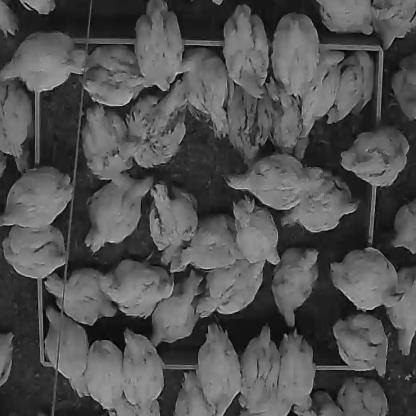chicken: (121, 83, 189, 171), (85, 170, 155, 253), (0, 27, 89, 91), (227, 152, 318, 209), (180, 40, 230, 141), (80, 43, 157, 106), (280, 170, 357, 232), (330, 248, 404, 312), (147, 270, 205, 350), (298, 48, 345, 146), (84, 109, 141, 189), (135, 1, 185, 92), (0, 166, 74, 226), (338, 129, 412, 189), (150, 185, 198, 275), (99, 260, 176, 316), (237, 322, 283, 415), (44, 305, 89, 400), (270, 245, 320, 329), (223, 6, 268, 99), (45, 271, 117, 329), (178, 212, 250, 270), (198, 259, 267, 318), (0, 222, 71, 279), (230, 75, 274, 166), (198, 321, 240, 416), (275, 9, 320, 97), (330, 315, 390, 379), (328, 49, 378, 125), (277, 327, 319, 415), (123, 325, 164, 414), (233, 197, 282, 264), (86, 335, 125, 415), (268, 81, 304, 159), (0, 82, 33, 162), (390, 261, 416, 354), (175, 369, 223, 416), (372, 1, 416, 52), (316, 1, 376, 36), (339, 376, 390, 415), (393, 55, 415, 121), (296, 390, 348, 415), (393, 196, 415, 254), (0, 330, 15, 390), (13, 3, 62, 18), (0, 1, 19, 34)
